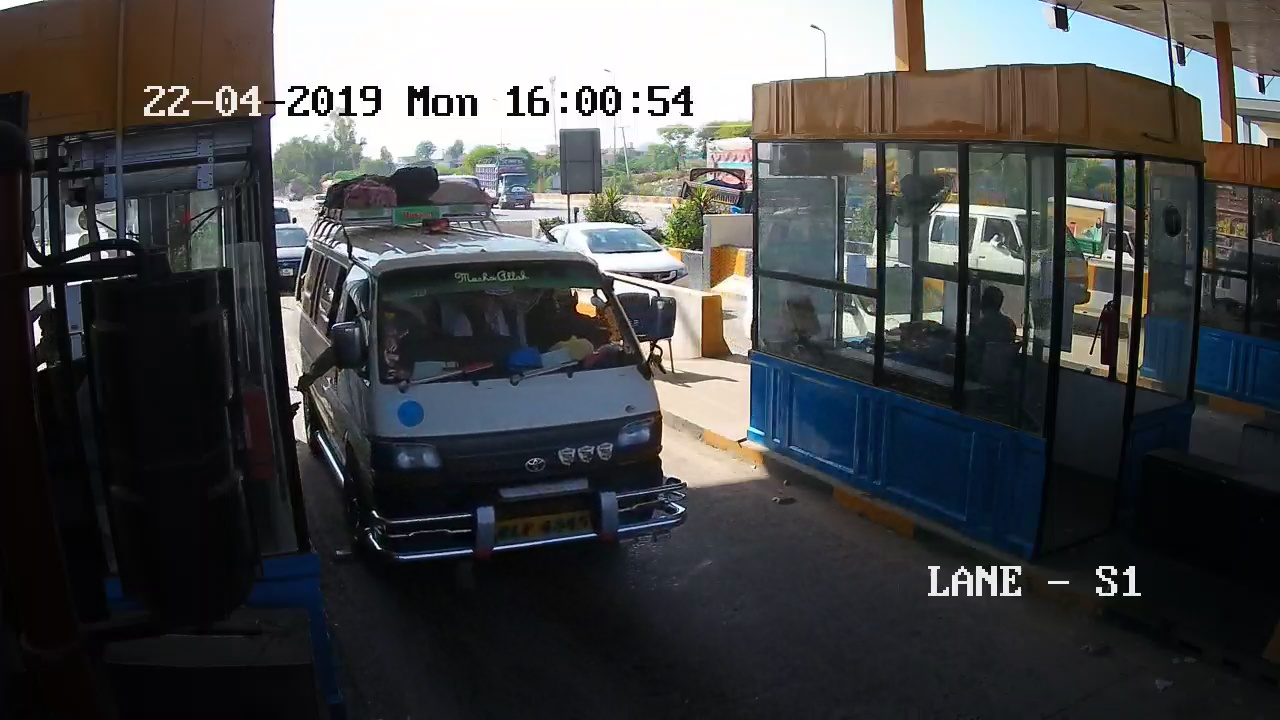Number Plate (Car): (493, 514, 593, 540)
